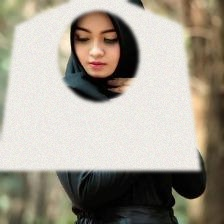Mukena: (0, 0, 200, 170)
